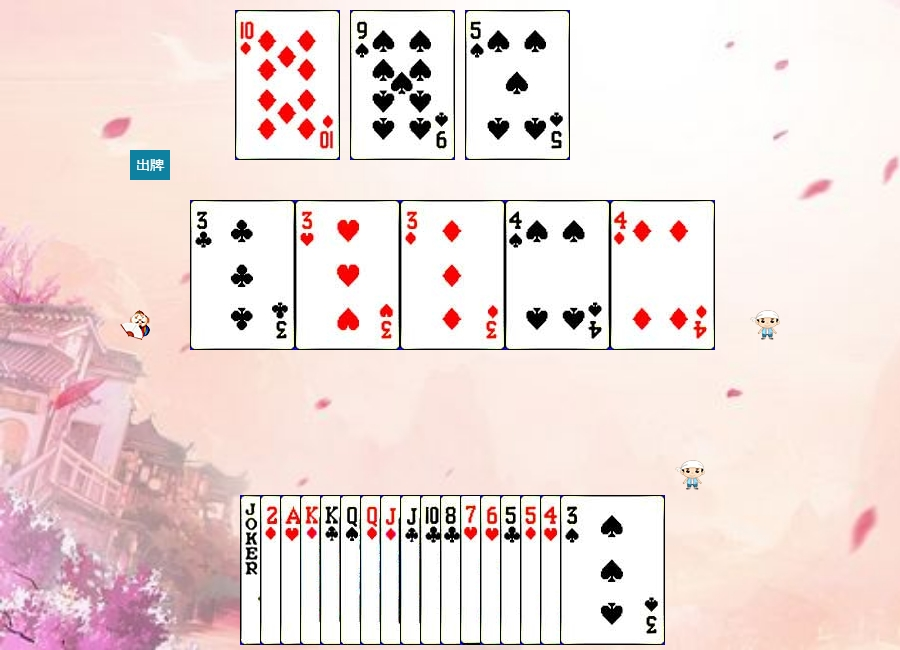10~1: (235, 10, 340, 160)
10~2: (420, 495, 525, 645)
11~1: (380, 495, 485, 645)
11~2: (400, 495, 505, 645)
12~1: (360, 495, 465, 645)
12~4: (340, 495, 445, 645)
13~1: (300, 495, 405, 645)
13~2: (320, 495, 425, 645)
14~3: (280, 495, 385, 645)
15~1: (260, 495, 365, 645)
17~3: (240, 495, 345, 645)
3~1: (400, 200, 505, 350)
3~2: (190, 200, 295, 350)
3~3: (295, 200, 400, 350)
3~4: (560, 495, 665, 645)
4~1: (610, 200, 715, 350)
4~3: (540, 495, 645, 645)
4~4: (505, 200, 610, 350)
5~1: (520, 495, 625, 645)
5~2: (500, 495, 605, 645)
5~4: (465, 10, 570, 160)
6~3: (480, 495, 585, 645)
7~3: (460, 495, 565, 645)
8~2: (440, 495, 545, 645)
9~4: (350, 10, 455, 160)
